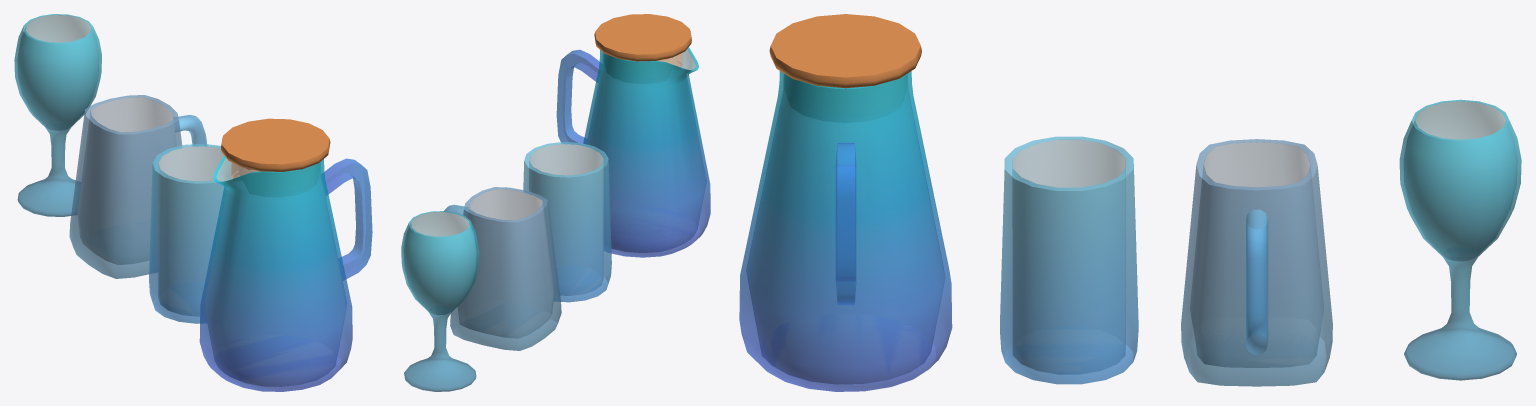
File: glasses.fbx
3 renders of one model, left to right at view 1: azimuth 30°, elevation 25°; view 2: azimuth 150°, elevation 25°; view 3: azimuth 270°, elevation 25°, orthographic. The views are drawn at different scales.
Parts seen in each view (by area): view 1: jug, jug_Liquid, glass_Beer, glass, glass_Goblet, glass_Beer_Liquid, glass_Liquid, glass_Goblet_Liquid, jug_Lid; view 2: jug, jug_Liquid, glass_Beer, glass, glass_Beer_Liquid, glass_Goblet, glass_Liquid, glass_Goblet_Liquid, jug_Lid; view 3: jug, jug_Liquid, glass_Beer, glass, glass_Liquid, glass_Goblet, glass_Beer_Liquid, glass_Goblet_Liquid, jug_Lid.
Part boxes in pixels (x1=…): jug: x1=199, y1=156, x2=372, y2=391; jug_Liquid: x1=205, y1=158, x2=346, y2=385; glass_Beer: x1=69, y1=95, x2=206, y2=278; glass: x1=149, y1=144, x2=226, y2=323; glass_Goblet: x1=14, y1=14, x2=101, y2=216; glass_Beer_Liquid: x1=78, y1=97, x2=175, y2=264; glass_Liquid: x1=158, y1=146, x2=225, y2=314; glass_Goblet_Liquid: x1=18, y1=15, x2=98, y2=129; jug_Lid: x1=221, y1=118, x2=330, y2=178; jug: x1=556, y1=47, x2=710, y2=257; jug_Liquid: x1=587, y1=49, x2=705, y2=252; glass_Beer: x1=444, y1=187, x2=561, y2=350; glass: x1=523, y1=142, x2=611, y2=302; glass_Beer_Liquid: x1=458, y1=189, x2=553, y2=337; glass_Goblet: x1=401, y1=211, x2=479, y2=391; glass_Liquid: x1=529, y1=144, x2=603, y2=295; glass_Goblet_Liquid: x1=404, y1=212, x2=475, y2=313; jug_Lid: x1=594, y1=14, x2=691, y2=67; jug: x1=739, y1=71, x2=952, y2=391; jug_Liquid: x1=747, y1=83, x2=944, y2=383; glass_Beer: x1=1181, y1=139, x2=1332, y2=386; glass: x1=1000, y1=136, x2=1138, y2=384; glass_Liquid: x1=1012, y1=140, x2=1125, y2=372; glass_Goblet: x1=1399, y1=99, x2=1521, y2=380; glass_Beer_Liquid: x1=1191, y1=142, x2=1322, y2=365; glass_Goblet_Liquid: x1=1404, y1=101, x2=1516, y2=260; jug_Lid: x1=769, y1=14, x2=921, y2=88.
Bounding box in the file's own units: 0.9017 × 2.8 × 1.22.
